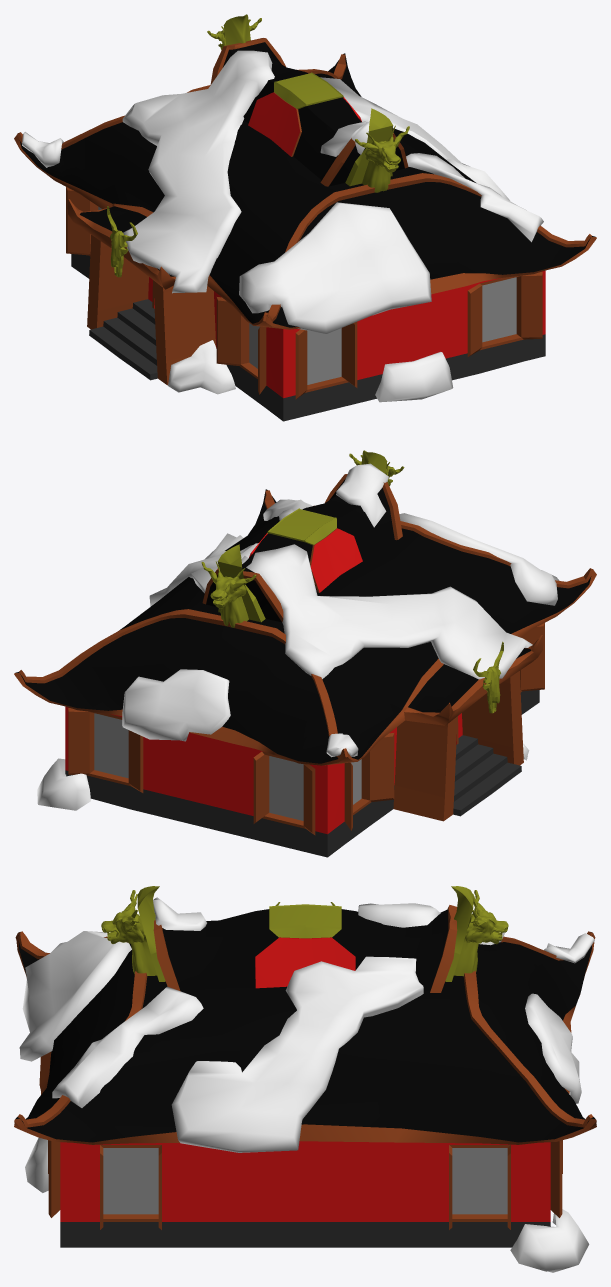
Rendered from kaserne mit schnee.FBX.
3 renders of one model, top to bottom at view 1: azimuth 30°, elevation 25°; view 2: azimuth 150°, elevation 25°; view 3: azimuth 270°, elevation 25°, orthographic. The views are drawn at different scales.
Visible parts, largest first — view 1: kaserne; view 2: kaserne; view 3: kaserne.
Part boxes in pixels (x1,y1,x2,y2): kaserne: (14,14,596,421); kaserne: (14,450,596,857); kaserne: (14,886,596,1272).
Size of the model in its own units: 72.78 by 51.25 by 88.24.
